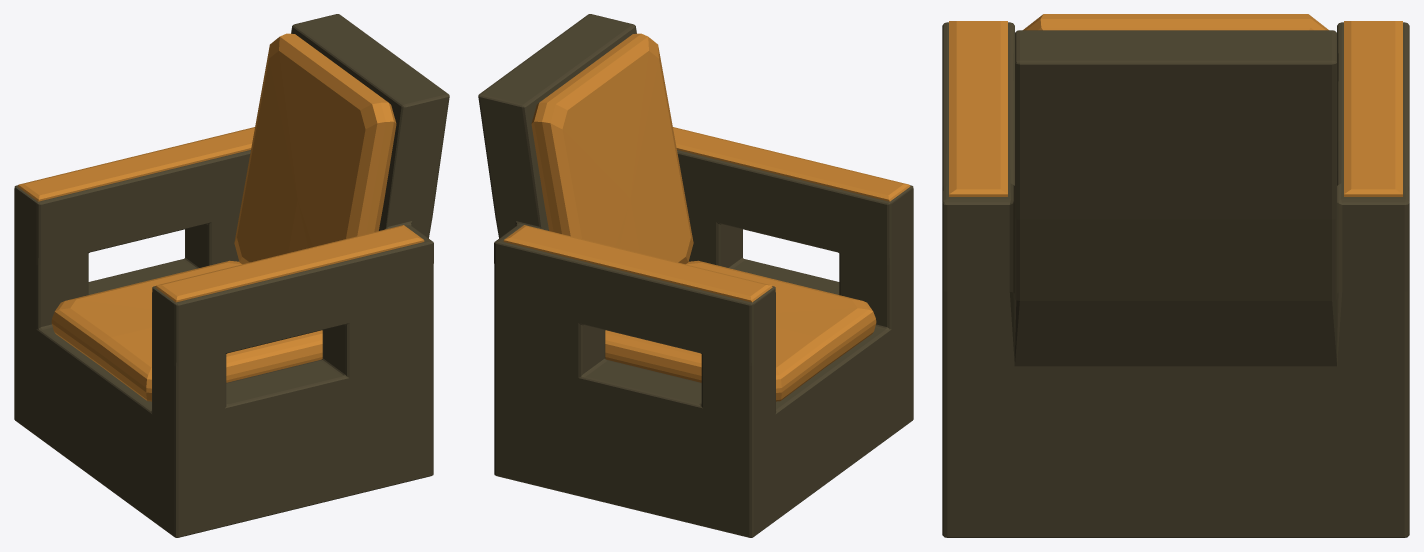
Rendered from SM_Armchair_001.fbx.
3 renders of one model, left to right at view 1: azimuth 30°, elevation 25°; view 2: azimuth 150°, elevation 25°; view 3: azimuth 270°, elevation 25°, orthographic. The views are drawn at different scales.
Parts seen in each view (by area): view 1: Armchair; view 2: Armchair; view 3: Armchair.
Boxes of the visible parts, box(x1,y1,x2,y2) form: Armchair: box(14, 14, 449, 537); Armchair: box(478, 14, 913, 537); Armchair: box(942, 14, 1409, 537).
Size of the model in its own units: 115 by 129 by 108.
